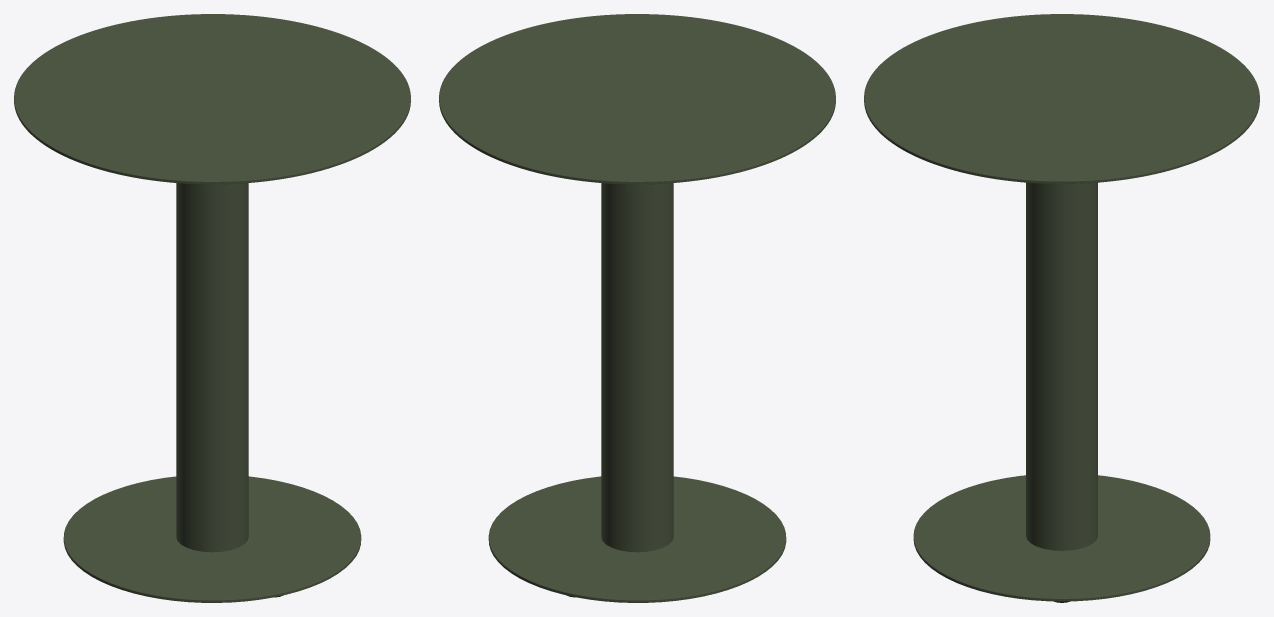
The model's file is table-11-600.glb.
3 views of the same model, side by side, from view 1: azimuth 30°, elevation 25°; view 2: azimuth 150°, elevation 25°; view 3: azimuth 270°, elevation 25° (orthographic).
Visible parts, largest first — view 1: rb_table_11_600; view 2: rb_table_11_600; view 3: rb_table_11_600.
Boxes of the visible parts, x1,y1,x2,y2 form: rb_table_11_600: (14,14,410,602); rb_table_11_600: (439,14,835,602); rb_table_11_600: (864,14,1259,602).
Size of the model in its own units: 0.6 by 0.75 by 0.6.
